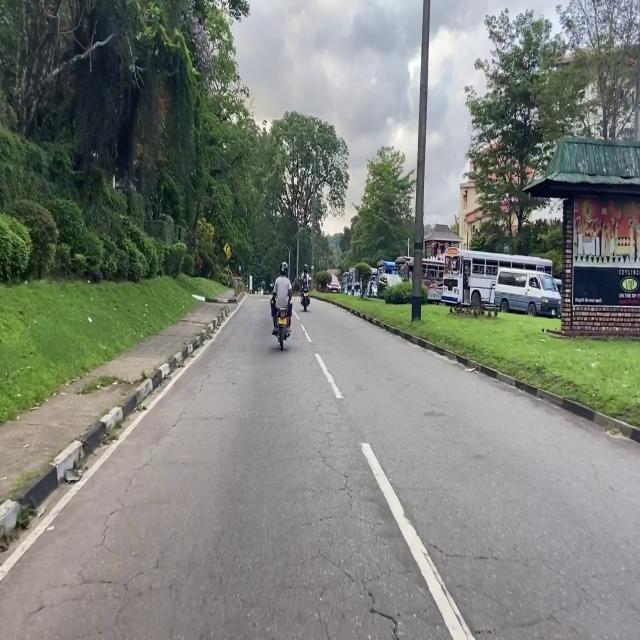bus: (442, 249, 552, 304), (396, 256, 444, 302), (354, 268, 377, 296), (377, 260, 396, 275)
car: (377, 273, 401, 297), (326, 270, 341, 293)
motorcycle: (277, 308, 288, 350), (301, 289, 310, 311), (369, 282, 377, 297)
person: (271, 262, 292, 329), (301, 265, 311, 295)
van: (495, 268, 561, 316)
